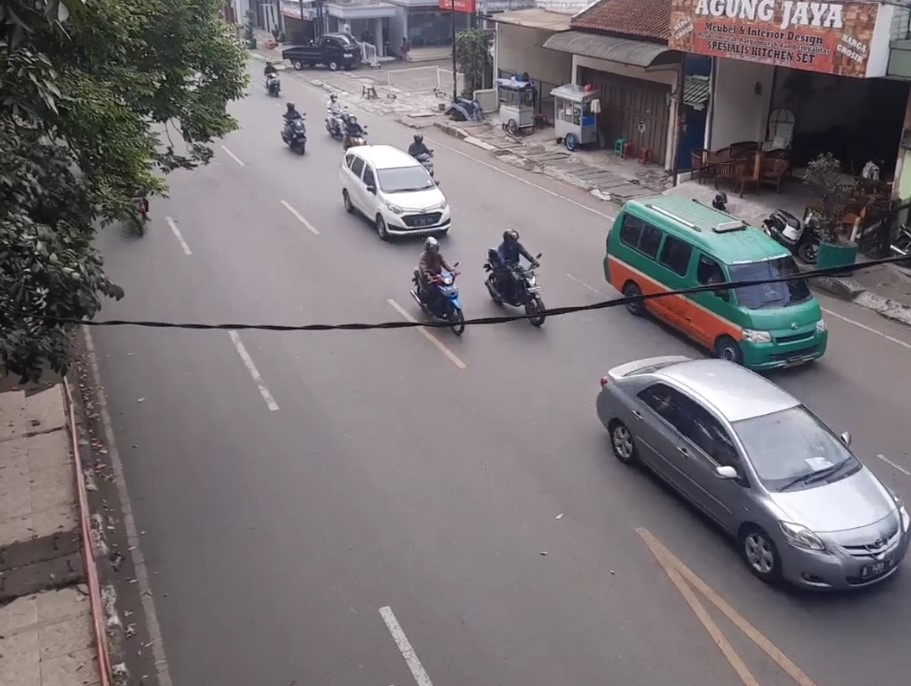mobil: (727, 405, 911, 596), (724, 253, 824, 366), (369, 163, 451, 240)
motor: (483, 226, 543, 330), (413, 235, 464, 342), (279, 98, 308, 154)
